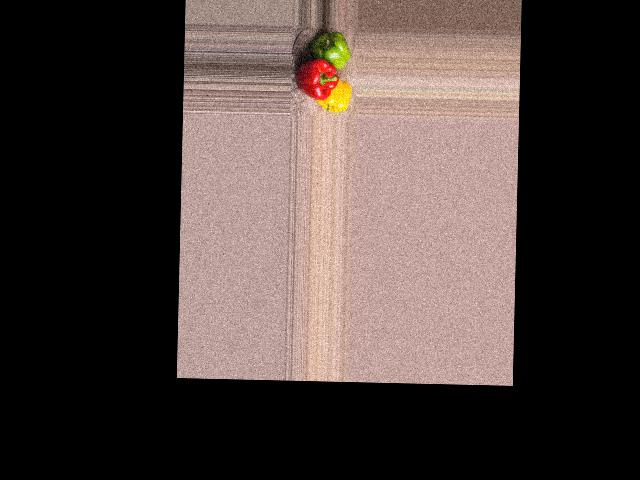bell_pepper: (315, 80, 353, 112)
